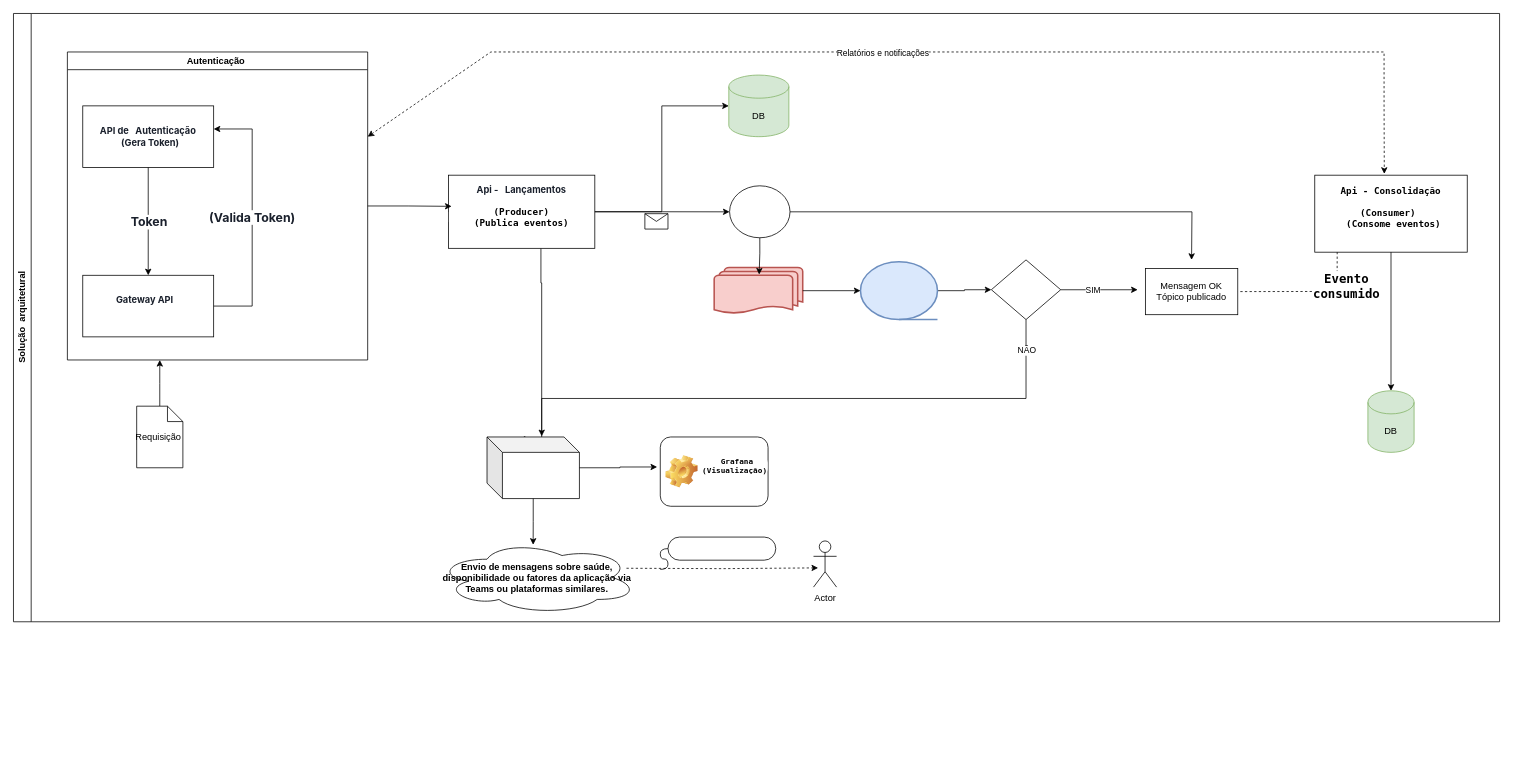
The diagram is 1513 pixels wide and 782 high, and some of its shapes have lost their labels. Here are the shapes that lost their labels. From the top down, the centre of each, then its label:
At pixel 759 211: "Kafka Tópico: lançamentos".
At pixel 758 290: "Fila de Erros".
At pixel 898 290: "Mecanismo de Retry".
At pixel 1026 289: "Mensagem processada?".
At pixel 532 467: "Prometheus".
At pixel 721 548: "Pod indisponível".
